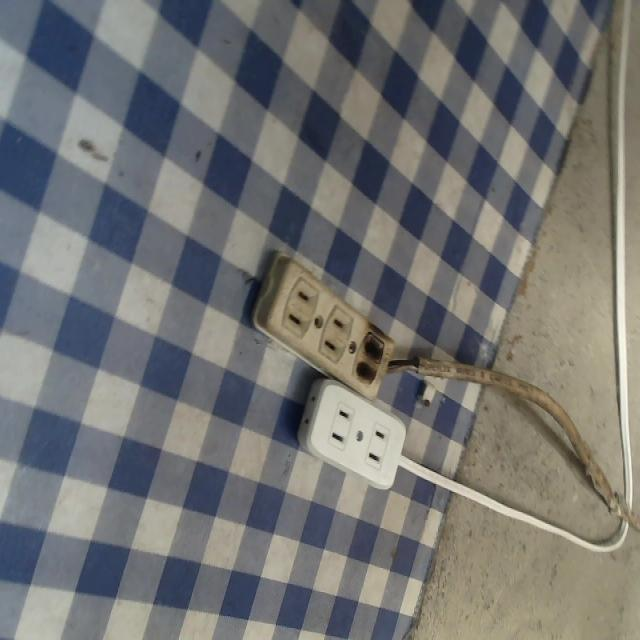-: (352, 327, 390, 389)
